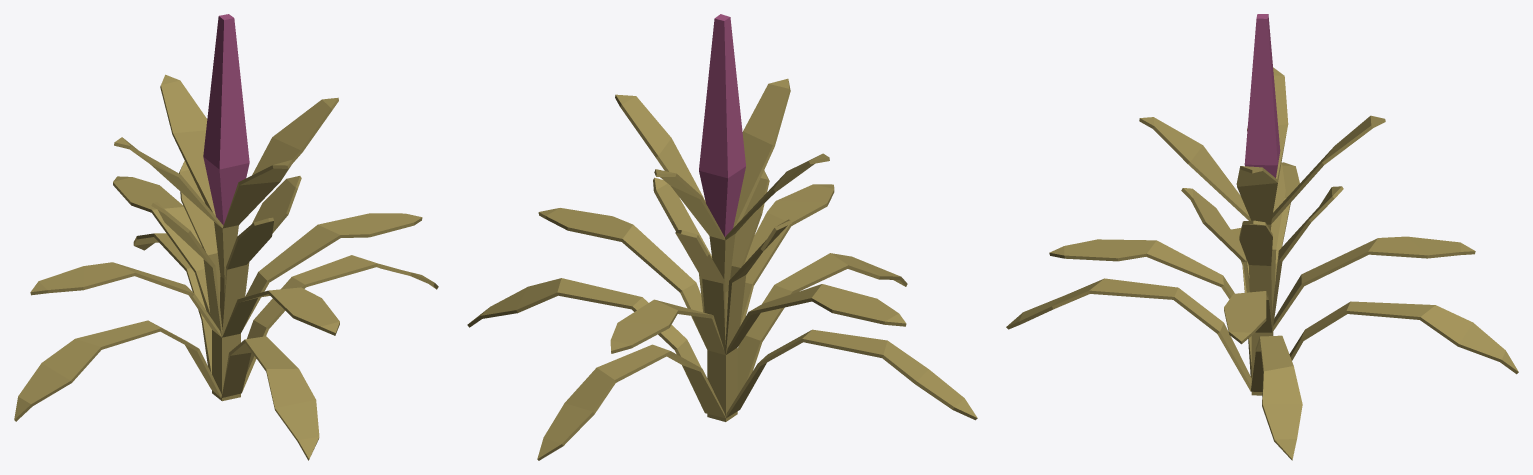
The picture shows the model from 3 angles, left to right: view 1: azimuth 30°, elevation 25°; view 2: azimuth 150°, elevation 25°; view 3: azimuth 270°, elevation 25°; orthographic projection. The views are drawn at different scales.
Visible parts, largest first — view 1: Plant_5; view 2: Plant_5; view 3: Plant_5.
Part boxes in pixels (x1,y1,x2,y2): Plant_5: (14, 14, 438, 460); Plant_5: (467, 14, 977, 460); Plant_5: (1006, 14, 1518, 460).
Size of the model in its own units: 1.74 by 1.39 by 1.72.
